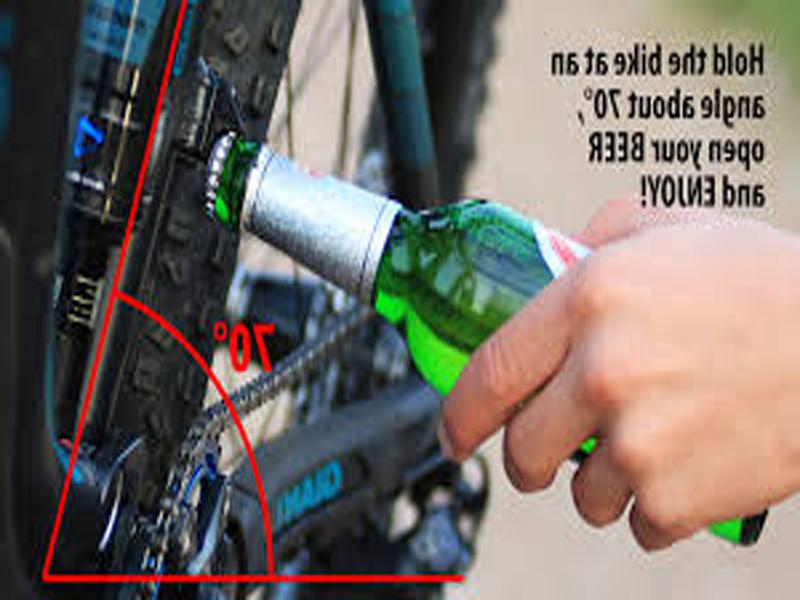Beer: (196, 132, 770, 546)
